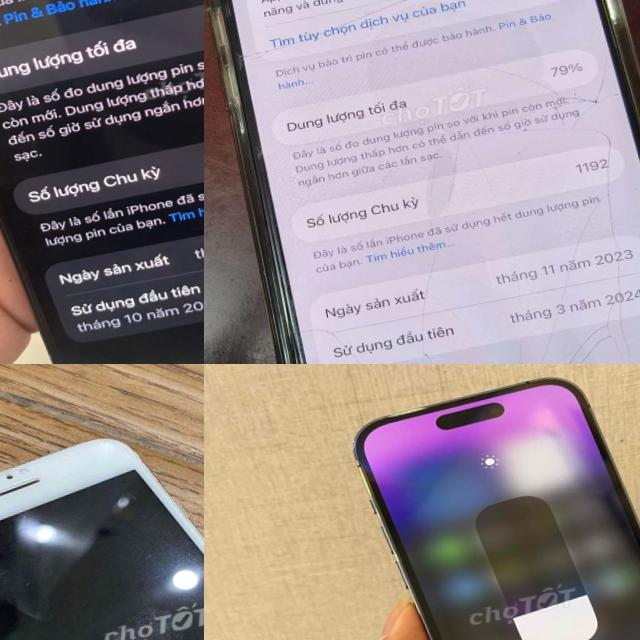scratch: (0, 449, 72, 498)
screen_defect: (504, 124, 640, 364), (478, 39, 618, 146), (231, 6, 386, 70), (417, 124, 478, 235), (329, 321, 473, 364)
